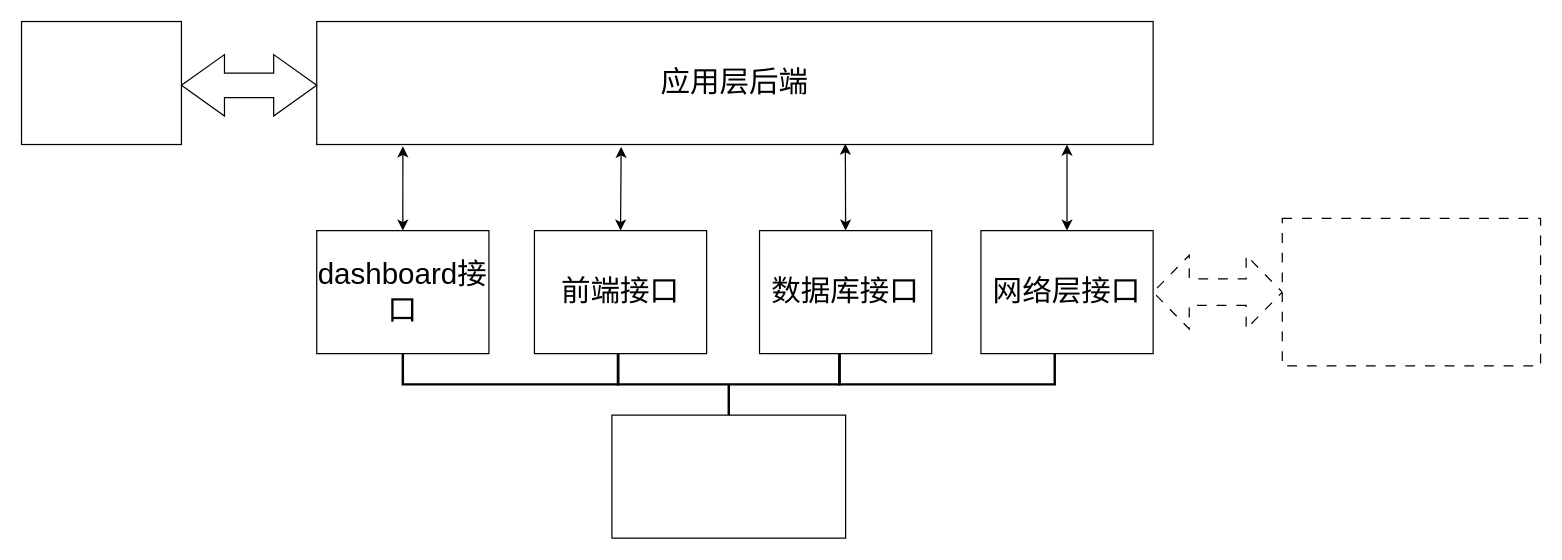
The diagram is 1562 pixels wide and 560 high, and some of its shapes have lost their labels. The shapes that lost their labels are listed below. From the top down, each one's centre as x and y in pixels, then its label:
At (x=100, y=82): "应用层前端".
At (x=1411, y=291): "网络层请求".
At (x=728, y=476): "API接口".
